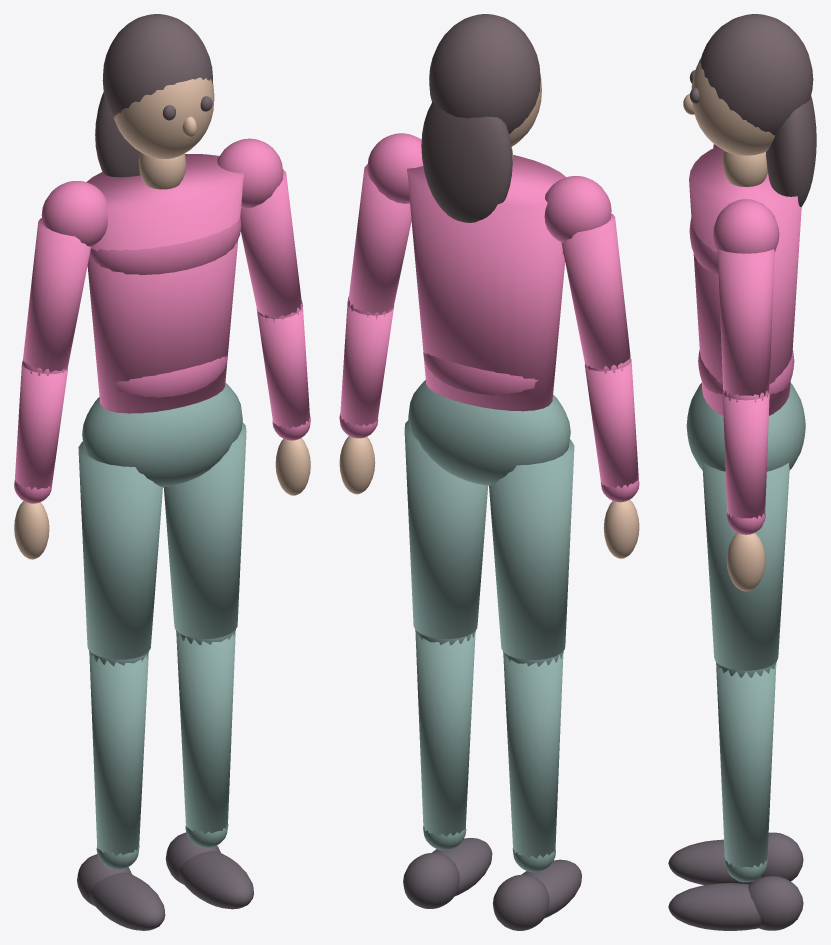
Rendered from shopper.glb.
The picture shows the model from 3 angles, left to right: view 1: azimuth 30°, elevation 25°; view 2: azimuth 150°, elevation 25°; view 3: azimuth 270°, elevation 25°; orthographic projection.
Parts seen in each view (by area): view 1: Outfit, Legs, Skin, Hair, Shoes; view 2: Outfit, Legs, Hair, Shoes, Skin; view 3: Outfit, Legs, Hair, Shoes, Skin.
Part boxes in pixels (x1,y1,x2,y2): Outfit: (14,138,310,503); Legs: (78,382,246,869); Skin: (14,77,310,559); Hair: (95,14,212,177); Shoes: (77,832,253,930); Outfit: (339,133,639,502); Legs: (404,380,574,872); Hair: (421,14,540,222); Shoes: (403,838,581,930); Skin: (339,74,639,558); Outfit: (689,144,801,534); Legs: (686,383,805,882); Hair: (689,14,816,207); Shoes: (668,832,803,930); Skin: (683,58,775,591).
Size of the model in its own units: 0.592 by 1.71 by 0.259.
